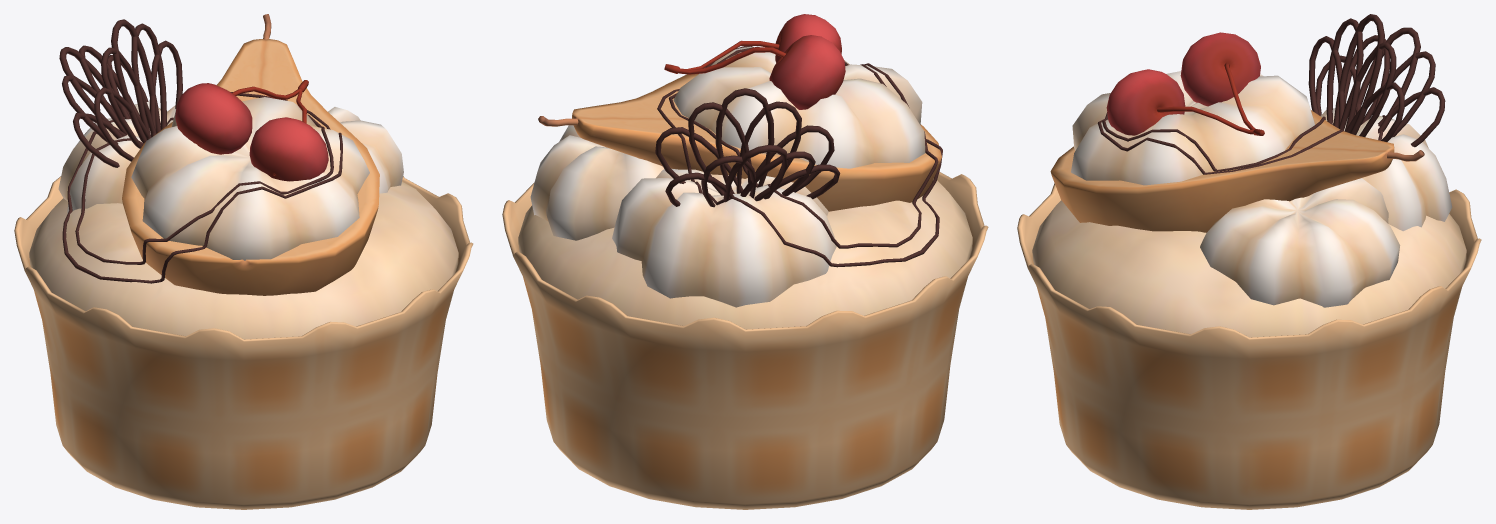
Rendered from dessert_pear_3.fbx.
3 views of the same model, side by side, from view 1: azimuth 30°, elevation 25°; view 2: azimuth 150°, elevation 25°; view 3: azimuth 270°, elevation 25° (orthographic). The views are drawn at different scales.
Parts seen in each view (by area): view 1: dessert_pear_&_cherry; view 2: dessert_pear_&_cherry; view 3: dessert_pear_&_cherry.
Boxes of the visible parts, x1,y1,x2,y2 form: dessert_pear_&_cherry: (14,14,473,509); dessert_pear_&_cherry: (502,14,988,509); dessert_pear_&_cherry: (1017,14,1481,509).
Bounding box in the file's own units: 13.32 × 12.23 × 13.32.
